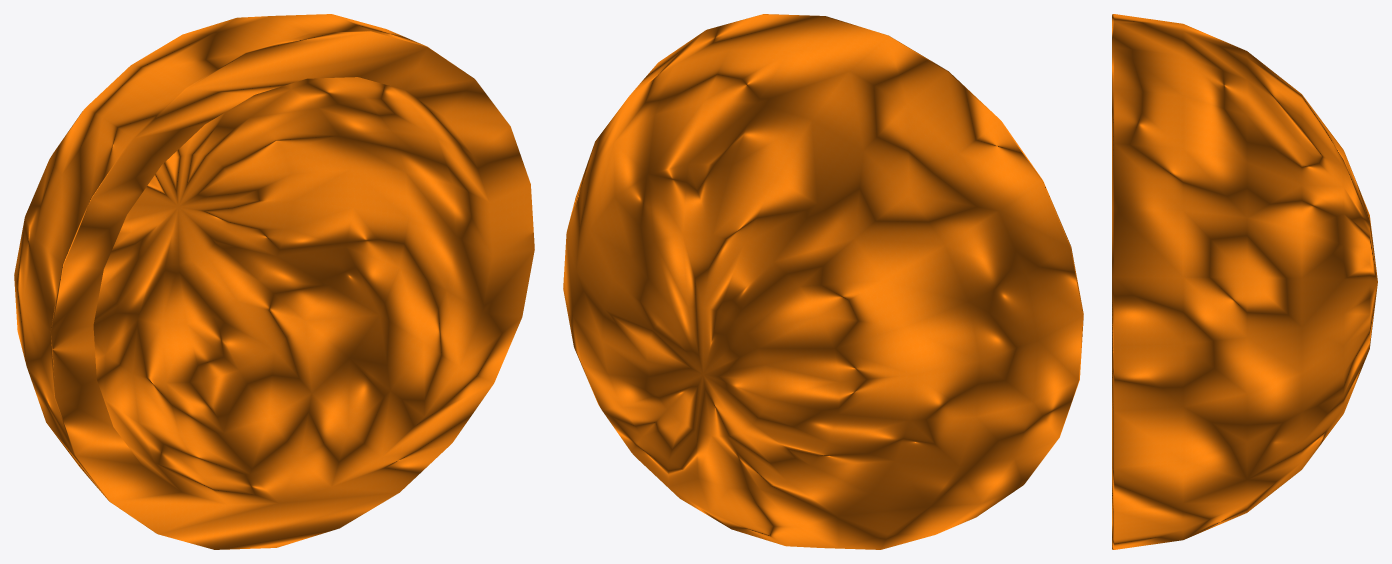
File: model_align.obj
3 renders of one model, left to right at view 1: azimuth 30°, elevation 25°; view 2: azimuth 150°, elevation 25°; view 3: azimuth 270°, elevation 25°, orthographic. The views are drawn at different scales.
Bounding box in the file's own units: 0.1512 × 0.1512 × 0.0752.
1 material, 1 textured.
